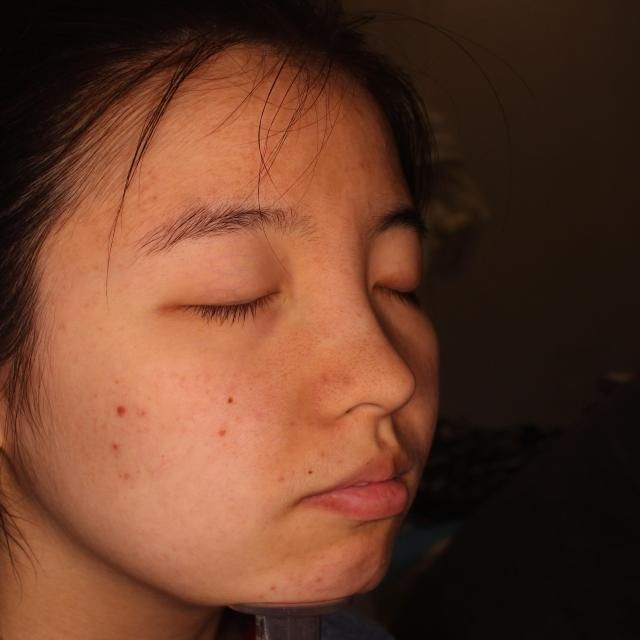comedone: (109, 401, 141, 424)
